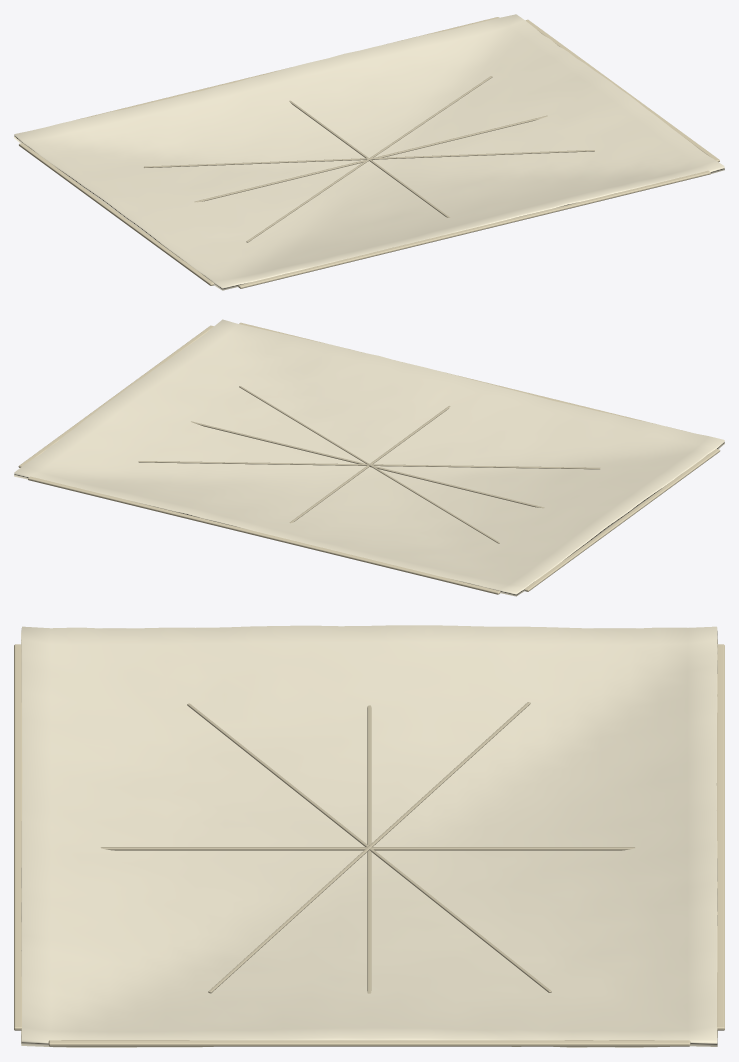
The model's file is singleperkamen.fbx.
The picture shows the model from 3 angles, top to bottom: view 1: azimuth 30°, elevation 25°; view 2: azimuth 150°, elevation 25°; view 3: azimuth 270°, elevation 25°; orthographic projection. The views are drawn at different scales.
Parts seen in each view (by area): view 1: KertasPerkamen_Cekung, Tepi_Kertas_Bawah_Tipis, Tepi_Kertas_Kiri_Tipis, Garis_Lipatan_Diagonal_02, Garis_Lipatan_Tengah_Panjang, Tepi_Kertas_Kanan_Tipis, Garis_Lipatan_Diagonal_01, Garis_Lipatan_Tengah_Lebar, Tepi_Kertas_Atas_Tipis; view 2: KertasPerkamen_Cekung, Tepi_Kertas_Atas_Tipis, Tepi_Kertas_Kiri_Tipis, Garis_Lipatan_Diagonal_01, Garis_Lipatan_Tengah_Panjang, Garis_Lipatan_Diagonal_02, Tepi_Kertas_Kanan_Tipis, Tepi_Kertas_Bawah_Tipis, Garis_Lipatan_Tengah_Lebar; view 3: KertasPerkamen_Cekung, Tepi_Kertas_Kanan_Tipis, Tepi_Kertas_Bawah_Tipis, Tepi_Kertas_Atas_Tipis, Garis_Lipatan_Tengah_Lebar, Garis_Lipatan_Diagonal_01, Garis_Lipatan_Diagonal_02, Garis_Lipatan_Tengah_Panjang.
Boxes of the visible parts, bbox=[...] form: KertasPerkamen_Cekung: bbox=[14, 14, 724, 290]; Tepi_Kertas_Bawah_Tipis: bbox=[238, 170, 710, 288]; Tepi_Kertas_Kiri_Tipis: bbox=[19, 143, 214, 285]; Garis_Lipatan_Diagonal_02: bbox=[144, 150, 594, 167]; Garis_Lipatan_Tengah_Panjang: bbox=[194, 115, 547, 202]; Tepi_Kertas_Kanan_Tipis: bbox=[525, 19, 719, 161]; Garis_Lipatan_Diagonal_01: bbox=[246, 76, 492, 242]; Garis_Lipatan_Tengah_Lebar: bbox=[289, 100, 450, 217]; Tepi_Kertas_Atas_Tipis: bbox=[76, 17, 499, 119]; KertasPerkamen_Cekung: bbox=[14, 319, 724, 596]; Tepi_Kertas_Atas_Tipis: bbox=[28, 476, 500, 594]; Tepi_Kertas_Kiri_Tipis: bbox=[524, 449, 720, 591]; Garis_Lipatan_Diagonal_01: bbox=[138, 461, 600, 469]; Garis_Lipatan_Tengah_Panjang: bbox=[191, 421, 544, 508]; Garis_Lipatan_Diagonal_02: bbox=[239, 386, 499, 543]; Tepi_Kertas_Kanan_Tipis: bbox=[18, 325, 213, 467]; Tepi_Kertas_Bawah_Tipis: bbox=[239, 322, 690, 432]; Garis_Lipatan_Tengah_Lebar: bbox=[289, 406, 450, 523]; KertasPerkamen_Cekung: bbox=[21, 625, 717, 1047]; Tepi_Kertas_Kanan_Tipis: bbox=[48, 1040, 690, 1046]; Tepi_Kertas_Bawah_Tipis: bbox=[14, 644, 22, 1030]; Tepi_Kertas_Atas_Tipis: bbox=[716, 644, 724, 1030]; Garis_Lipatan_Tengah_Lebar: bbox=[100, 847, 635, 850]; Garis_Lipatan_Diagonal_01: bbox=[187, 703, 551, 992]; Garis_Lipatan_Diagonal_02: bbox=[208, 702, 530, 993]; Garis_Lipatan_Tengah_Panjang: bbox=[367, 705, 371, 993].
Bounding box in the file's own units: 325 × 16.81 × 235.
